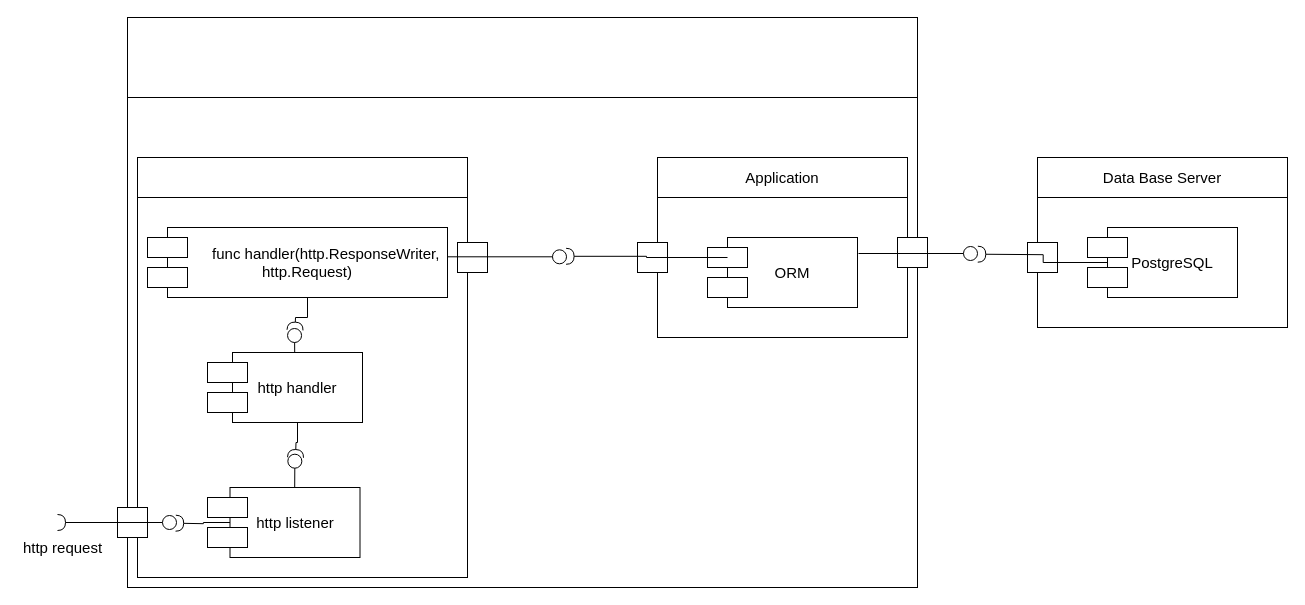
Some shapes in this 1305 by 605 pixel diagram are drawn without their labels. The centre of each missing label's shape, as x and y in pixels:
"Server" goes at point 522,57.
"Web" goes at point 302,177.
